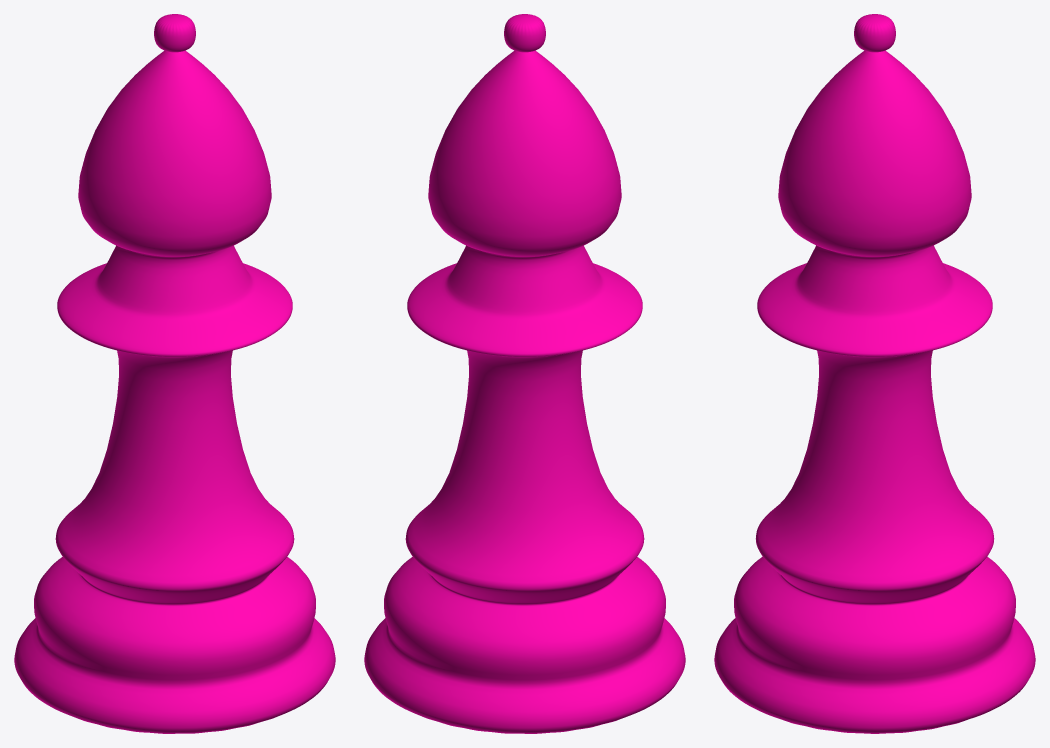
File: Bishop.fbx
The picture shows the model from 3 angles, left to right: view 1: azimuth 30°, elevation 25°; view 2: azimuth 150°, elevation 25°; view 3: azimuth 270°, elevation 25°; orthographic projection.
Visible parts, largest first — view 1: Bishop; view 2: Bishop; view 3: Bishop.
Boxes of the visible parts, x1,y1,x2,y2 form: Bishop: [14, 14, 335, 733]; Bishop: [364, 14, 685, 733]; Bishop: [714, 14, 1035, 733].
Bounding box in the file's own units: 50.85 × 116 × 50.85.
